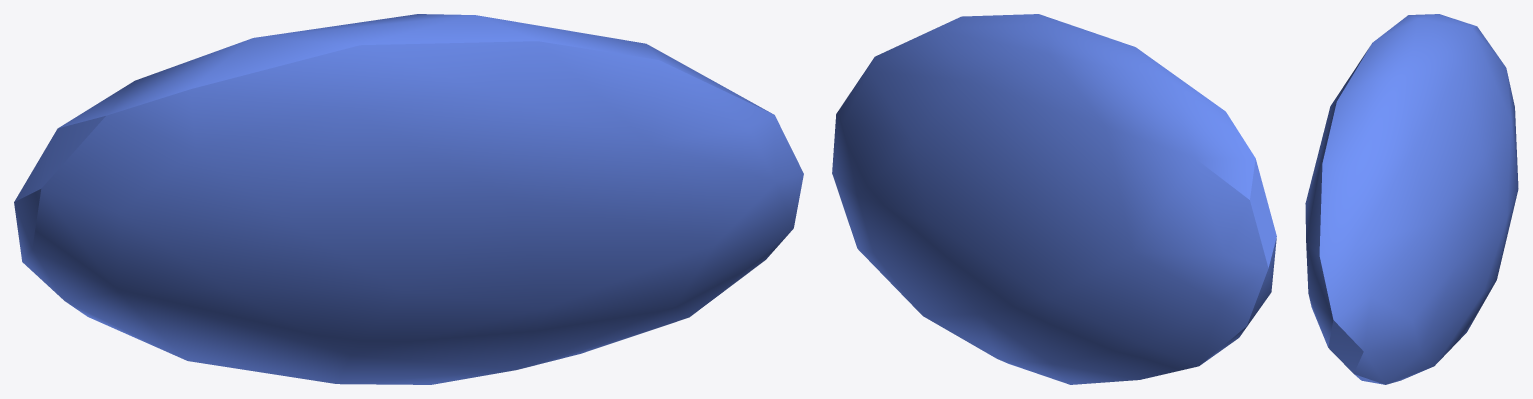
Rendered from sinoatrial_node.glb.
The picture shows the model from 3 angles, left to right: view 1: azimuth 30°, elevation 25°; view 2: azimuth 150°, elevation 25°; view 3: azimuth 270°, elevation 25°; orthographic projection. The views are drawn at different scales.
Parts seen in each view (by area): view 1: MM419_BP51825_FMA9477_Sinuatrial node; view 2: MM419_BP51825_FMA9477_Sinuatrial node; view 3: MM419_BP51825_FMA9477_Sinuatrial node.
Part boxes in pixels (box(x1,y1,x2,y2)): MM419_BP51825_FMA9477_Sinuatrial node: box(14, 14, 803, 384); MM419_BP51825_FMA9477_Sinuatrial node: box(832, 14, 1276, 384); MM419_BP51825_FMA9477_Sinuatrial node: box(1305, 14, 1518, 384).
Bounding box in the file's own units: 0.00725 × 0.00416 × 0.00295.
